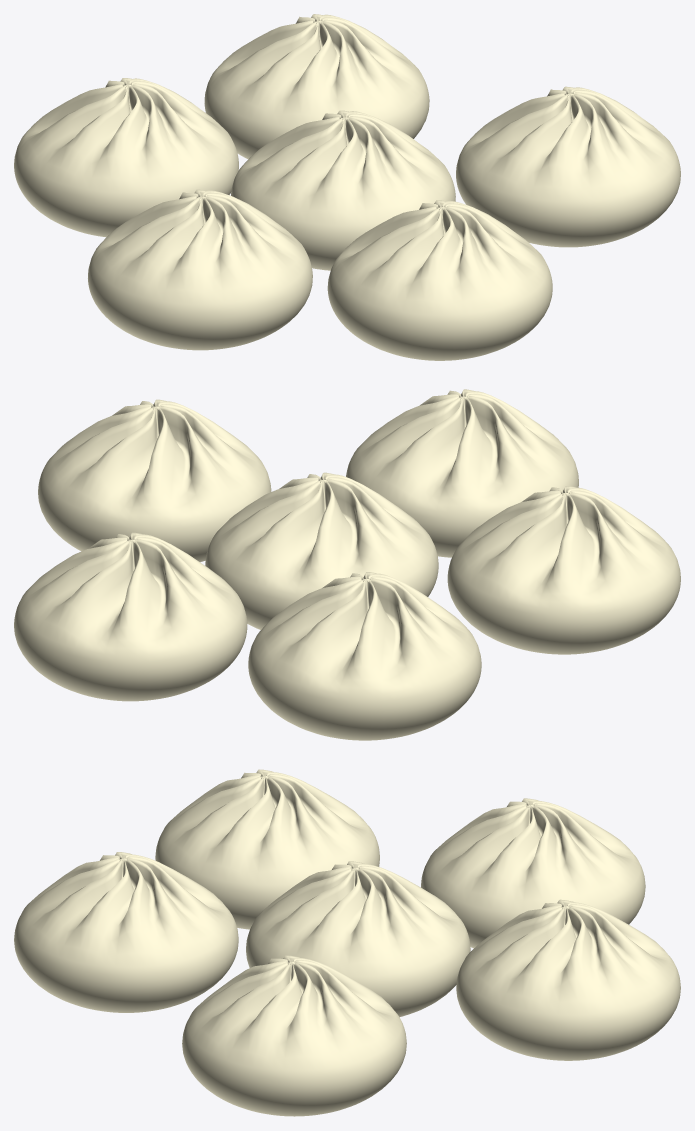
The model's file is xlb_uncooked.fbx.
The picture shows the model from 3 angles, top to bottom: view 1: azimuth 30°, elevation 25°; view 2: azimuth 150°, elevation 25°; view 3: azimuth 270°, elevation 25°; orthographic projection. The views are drawn at different scales.
Parts seen in each view (by area): view 1: baos; view 2: baos; view 3: baos.
Boxes of the visible parts, x1,y1,x2,y2 form: baos: (14,14,680,360); baos: (14,389,680,740); baos: (14,769,680,1116).
Bounding box in the file's own units: 40.68 × 9.33 × 40.83.
